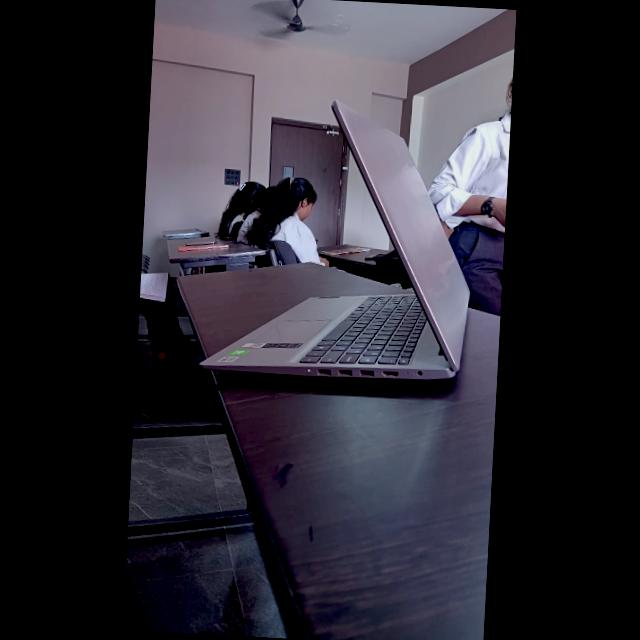laptop: (193, 85, 478, 456)
